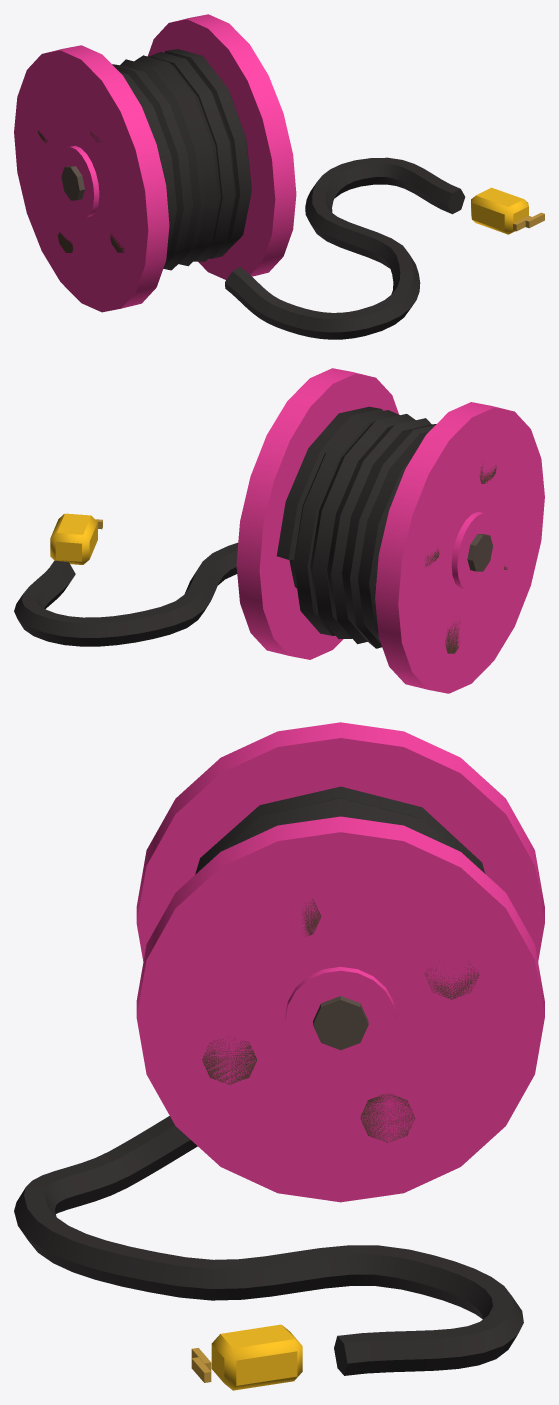
File: cable.glb
3 renders of one model, top to bottom at view 1: azimuth 30°, elevation 25°; view 2: azimuth 150°, elevation 25°; view 3: azimuth 270°, elevation 25°, orthographic. The views are drawn at different scales.
Parts seen in each view (by area): view 1: Body; view 2: Body; view 3: Body.
Part boxes in pixels (bbox=[...]): Body: bbox=[14, 14, 544, 339]; Body: bbox=[14, 368, 544, 693]; Body: bbox=[14, 722, 544, 1390].
Bounding box in the file's own units: 0.8122 × 0.4448 × 0.572.
